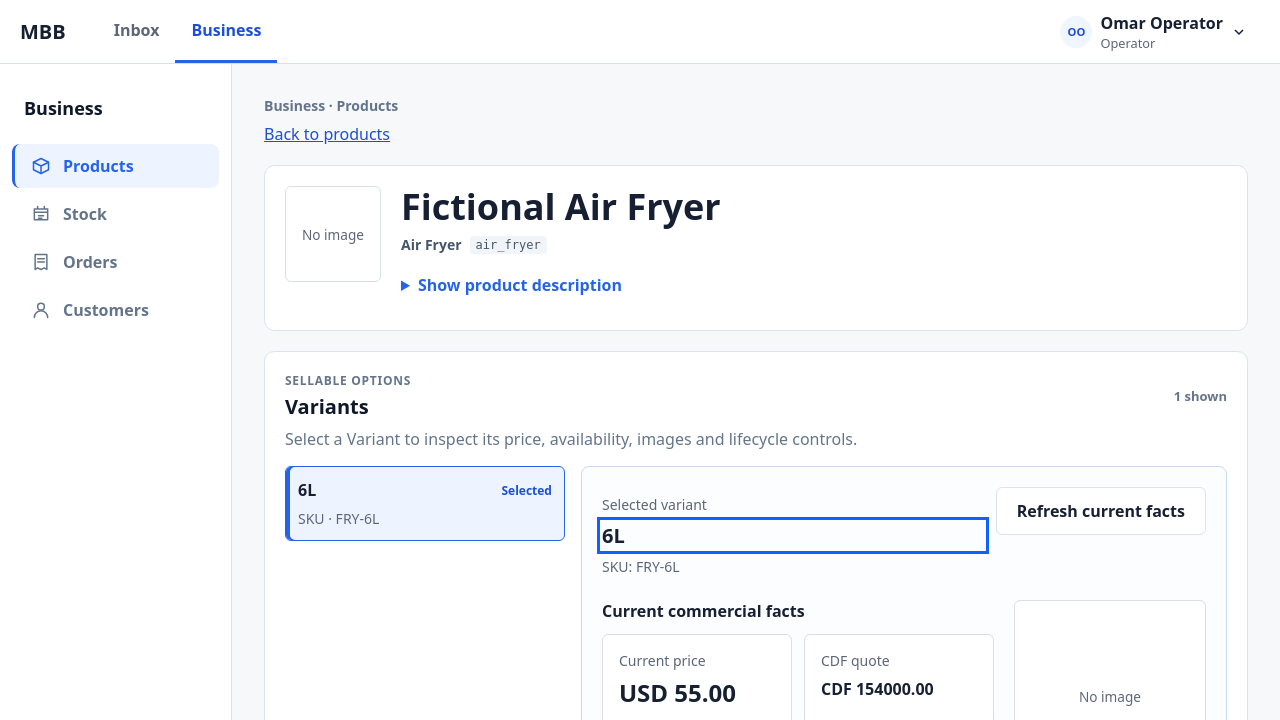
shared Business Products › discloses long secondary content without hiding current commercial facts
What coordinates should you click on to do the following:
click the button with aria-label "6L · FRY-6L"
I would click on:
 (527, 490)
Its box is [285,466,565,541].
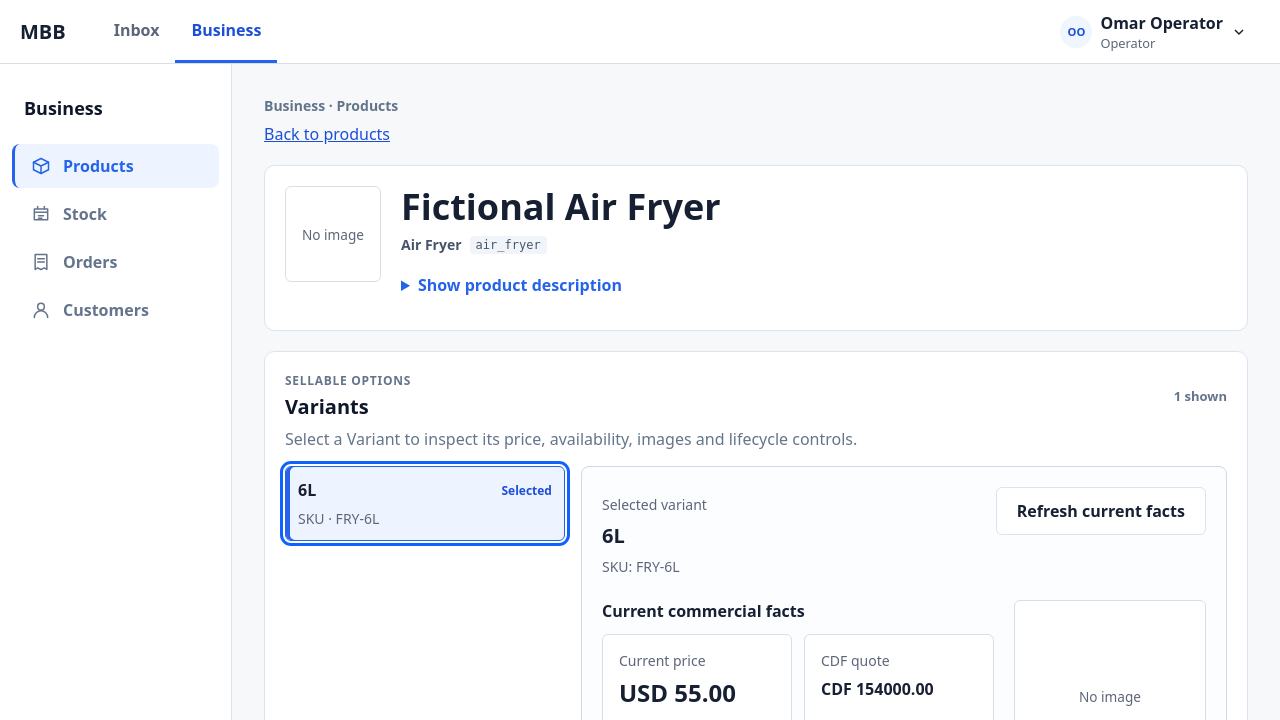
Expected: the heading "6L" is shown, [602,522,625,549]
Expected: the text "USD 55.00" is shown, [619,676,736,709]
What coordinates should you click on to do the following:
click the heading "Show product description"
I would click on:
 (520, 285)
Its box is [418,274,622,296].
(page scrolled)
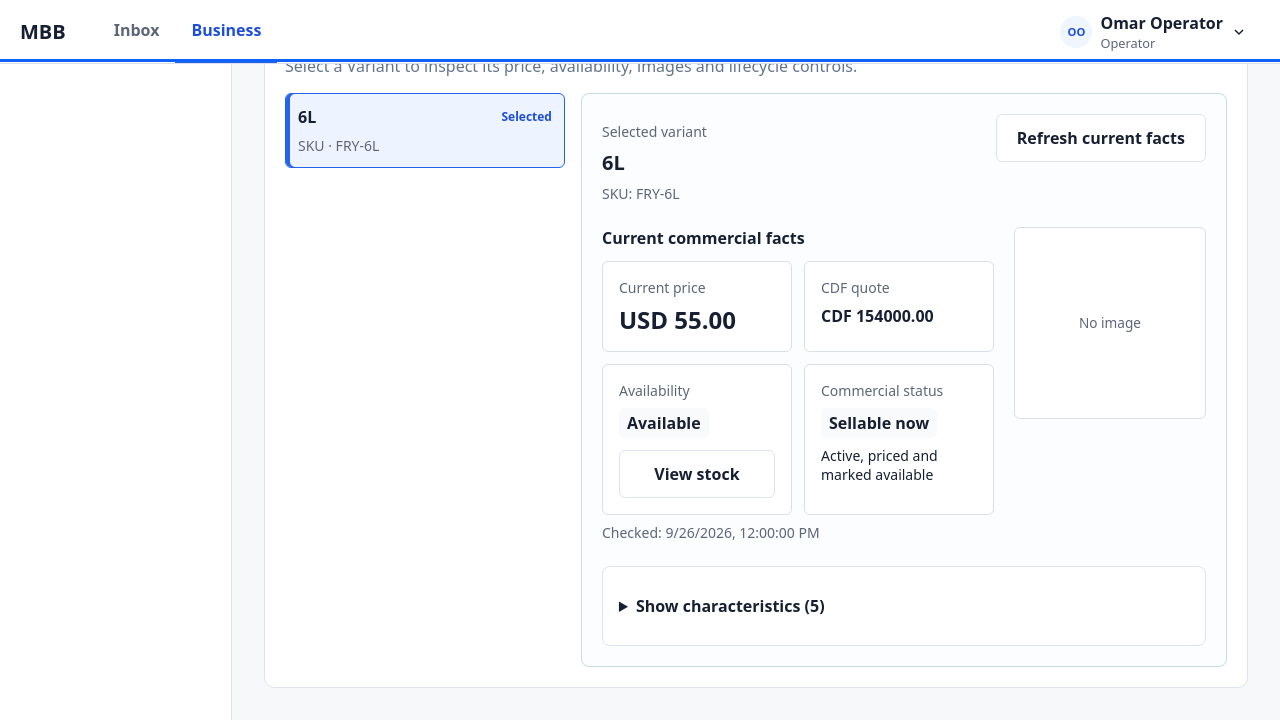
What coordinates should you click on to do the following:
click the heading "Show characteristics (5)"
I would click on:
 (730, 606)
Its box is [636,595,825,617].
(page scrolled)
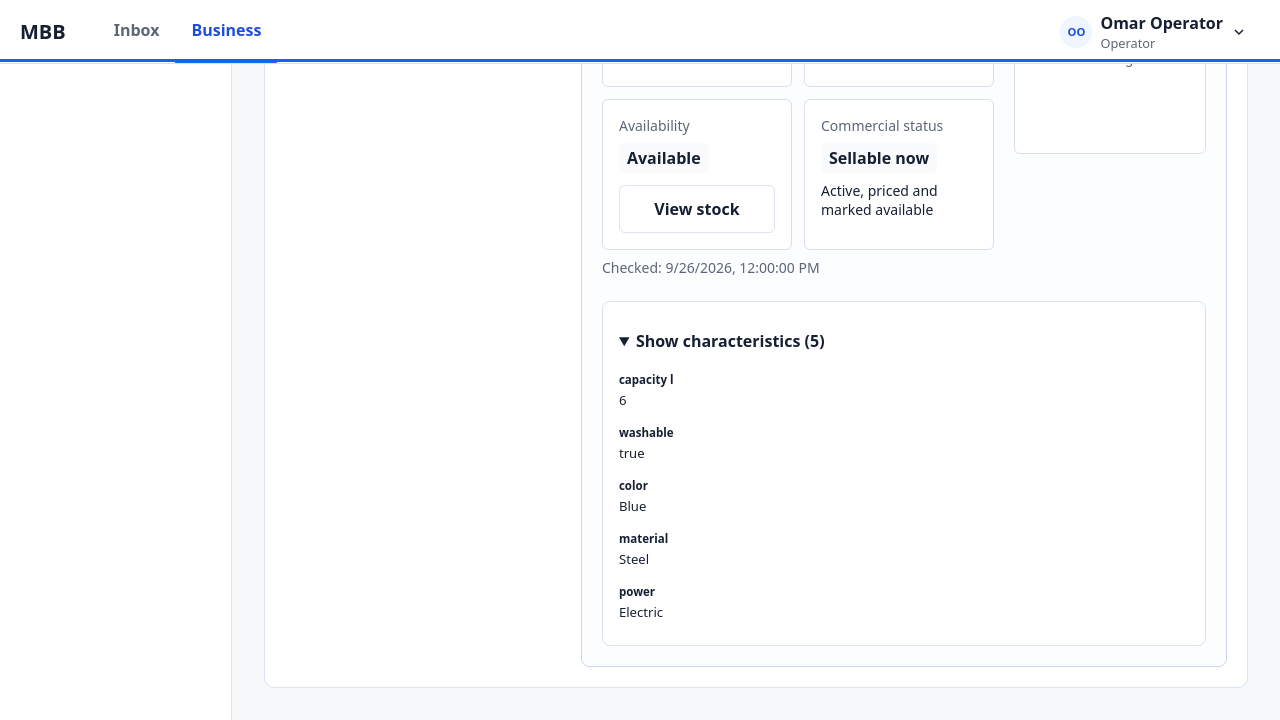
Result: the text "Steel" is shown at [619,550,649,568]
